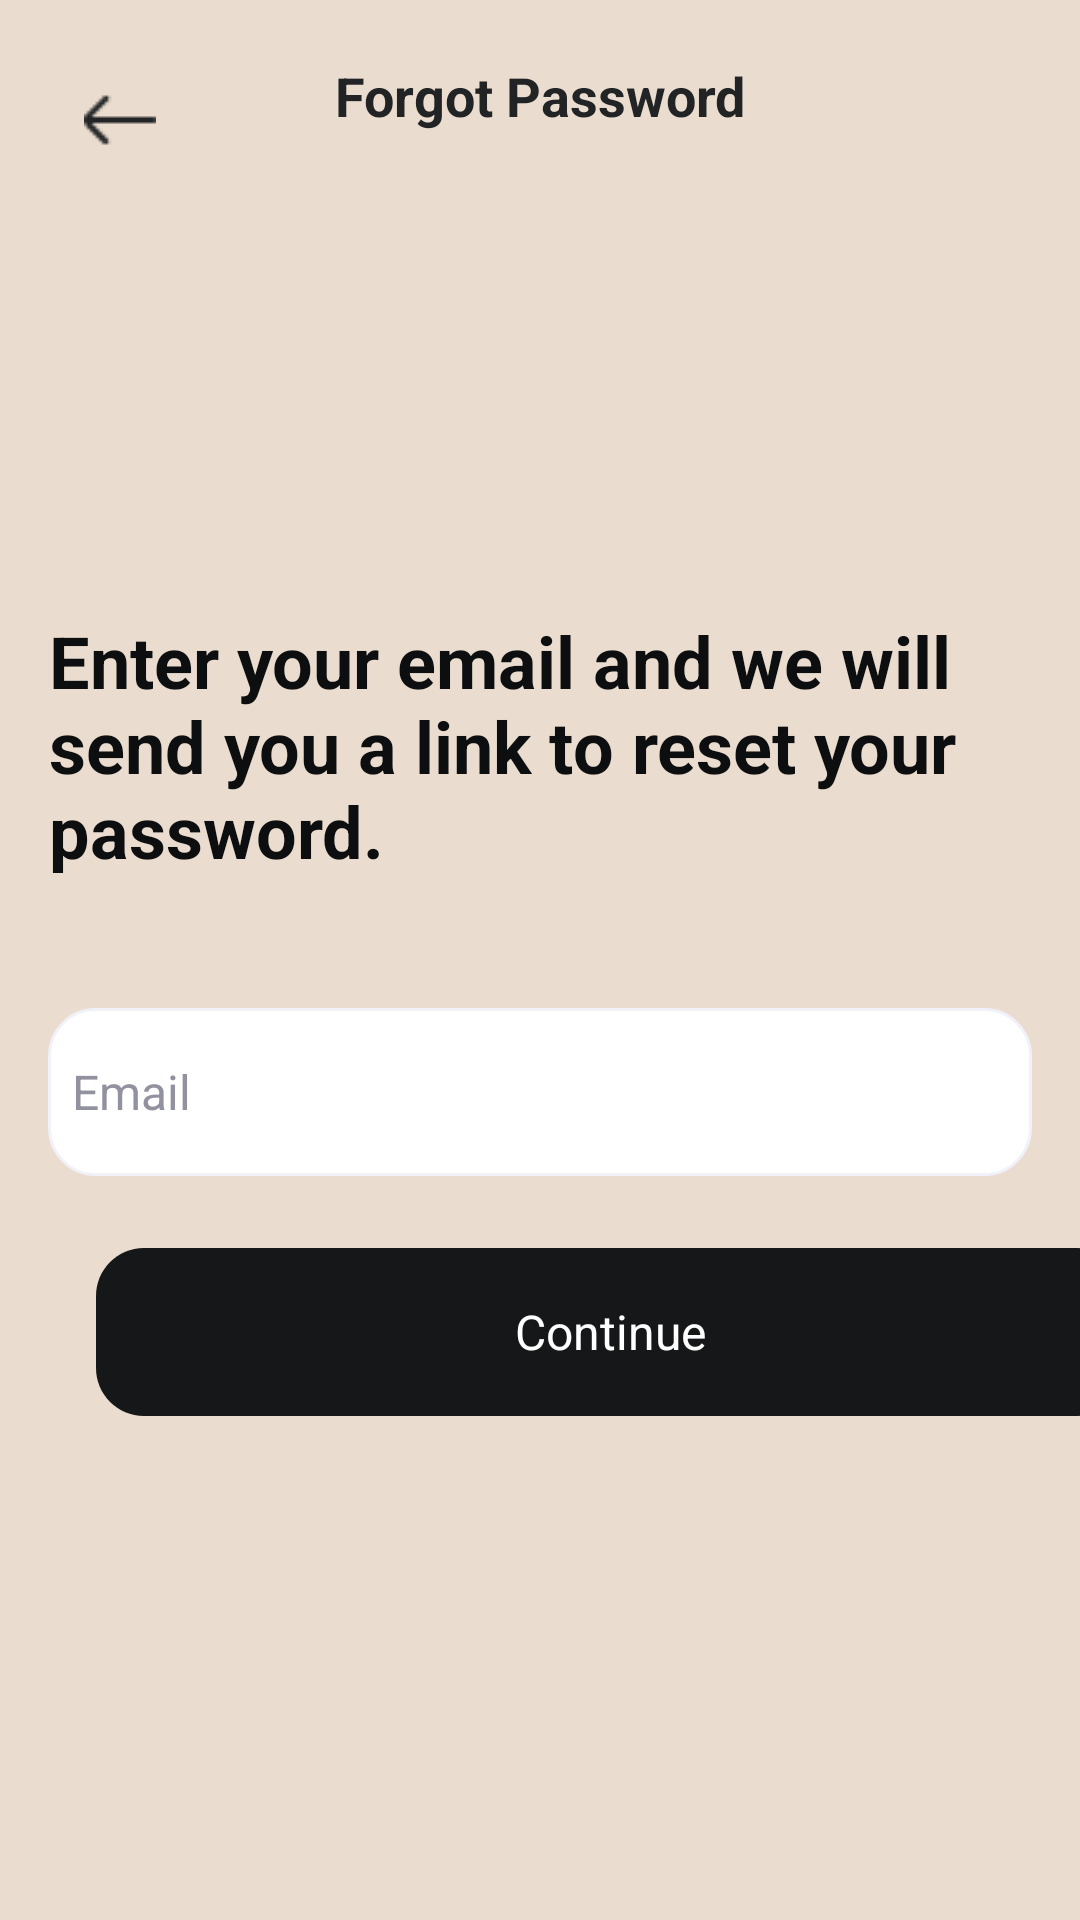

Icon click points for this 1080 x 1920 phone screenshot, format point (x, y):
back arrow: point (120, 120)
